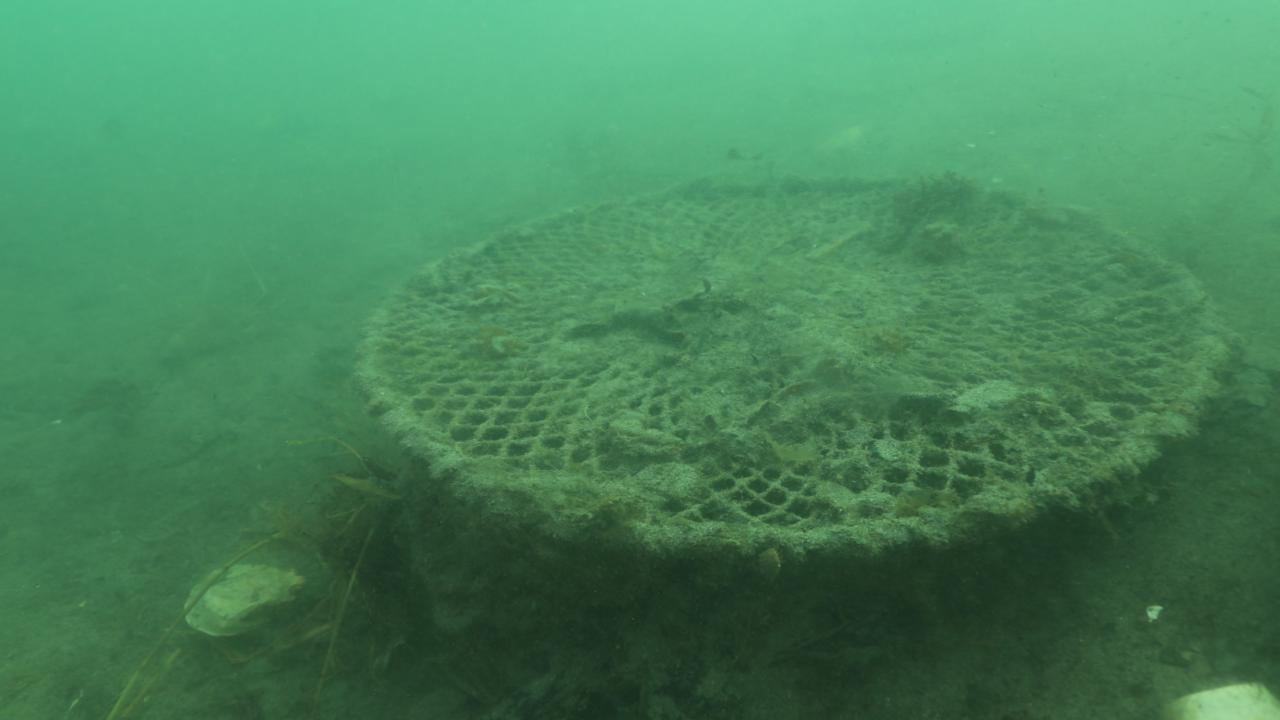circular fish trap: (342, 152, 1237, 584)
